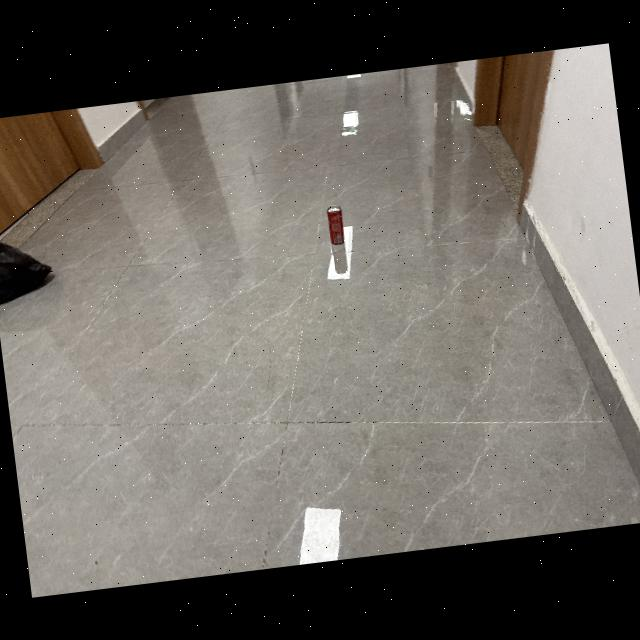Cola: (318, 200, 351, 251)
